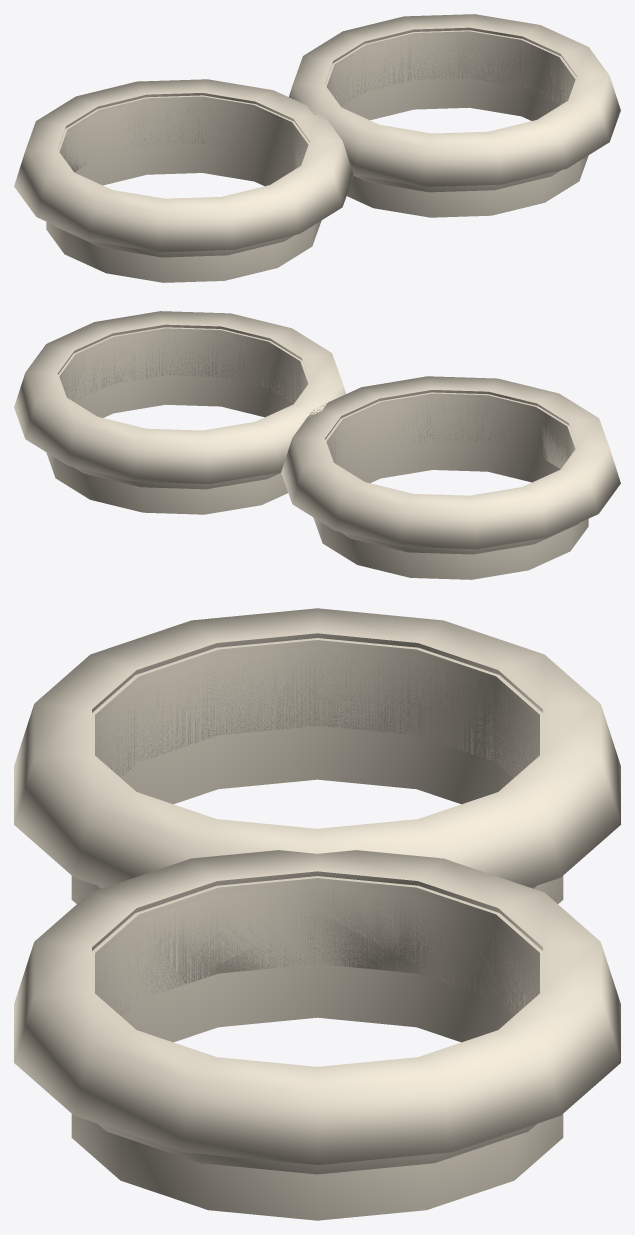
Rendered from everyday_socks.glb.
3 renders of one model, top to bottom at view 1: azimuth 30°, elevation 25°; view 2: azimuth 150°, elevation 25°; view 3: azimuth 270°, elevation 25°, orthographic. The views are drawn at different scales.
Visible parts, largest first — view 1: everyday_socks_LegL, everyday_socks_LegR; view 2: everyday_socks_LegL, everyday_socks_LegR; view 3: everyday_socks_LegR, everyday_socks_LegL.
Part boxes in pixels (x1,y1,x2,y2): everyday_socks_LegL: (14, 79, 353, 282); everyday_socks_LegR: (289, 14, 620, 217); everyday_socks_LegL: (281, 376, 620, 579); everyday_socks_LegR: (14, 311, 345, 514); everyday_socks_LegR: (14, 850, 620, 1220); everyday_socks_LegL: (14, 608, 620, 903).
Size of the model in its own units: 0.4 by 0.054 by 0.2047.
